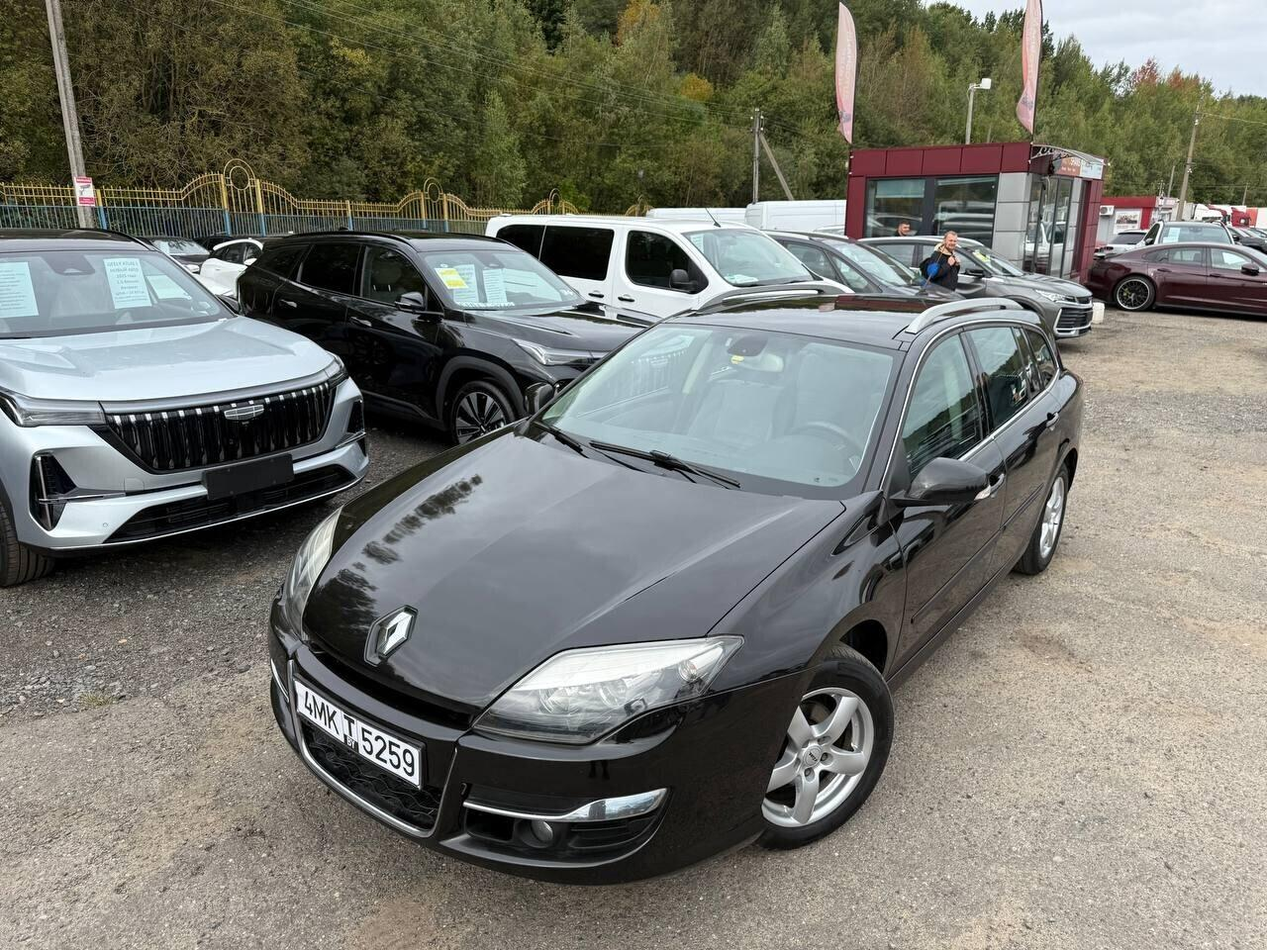Laguna_2010-2015: (256, 285, 1090, 887)
